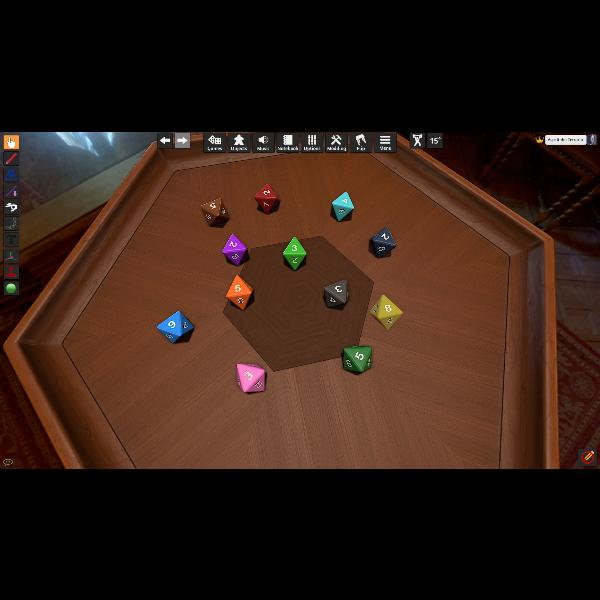d8: (157, 311, 193, 343), (372, 294, 403, 328), (226, 275, 254, 309), (236, 362, 266, 392), (368, 226, 394, 258), (222, 233, 248, 265), (282, 236, 306, 270), (204, 198, 231, 226), (343, 346, 371, 372), (254, 184, 278, 214), (331, 191, 353, 221), (324, 279, 346, 307), (203, 132, 225, 152)
